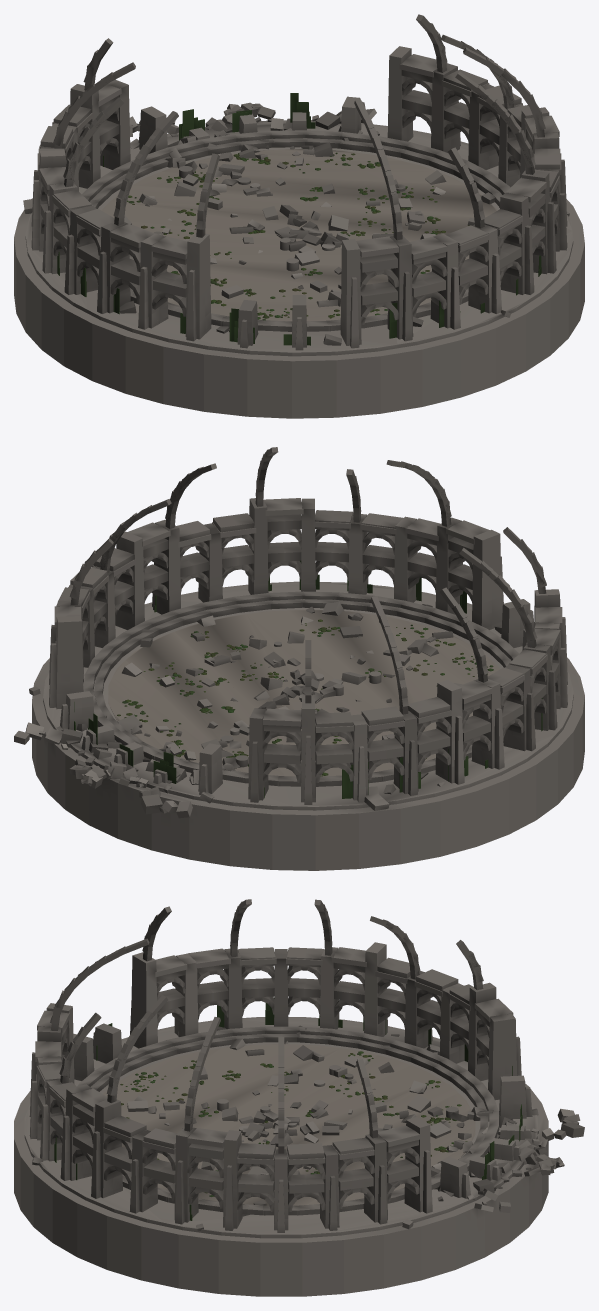
Rendered from dragonpit_hd.glb.
The picture shows the model from 3 angles, top to bottom: view 1: azimuth 30°, elevation 25°; view 2: azimuth 150°, elevation 25°; view 3: azimuth 270°, elevation 25°; orthographic projection. The views are drawn at different scales.
Visible parts, largest first — view 1: dragonpit_hd; view 2: dragonpit_hd; view 3: dragonpit_hd.
Boxes of the visible parts, x1,y1,x2,y2 form: dragonpit_hd: (14,14,584,418); dragonpit_hd: (14,447,584,870); dragonpit_hd: (14,899,584,1296).
Size of the model in its own units: 197 by 97.08 by 211.
